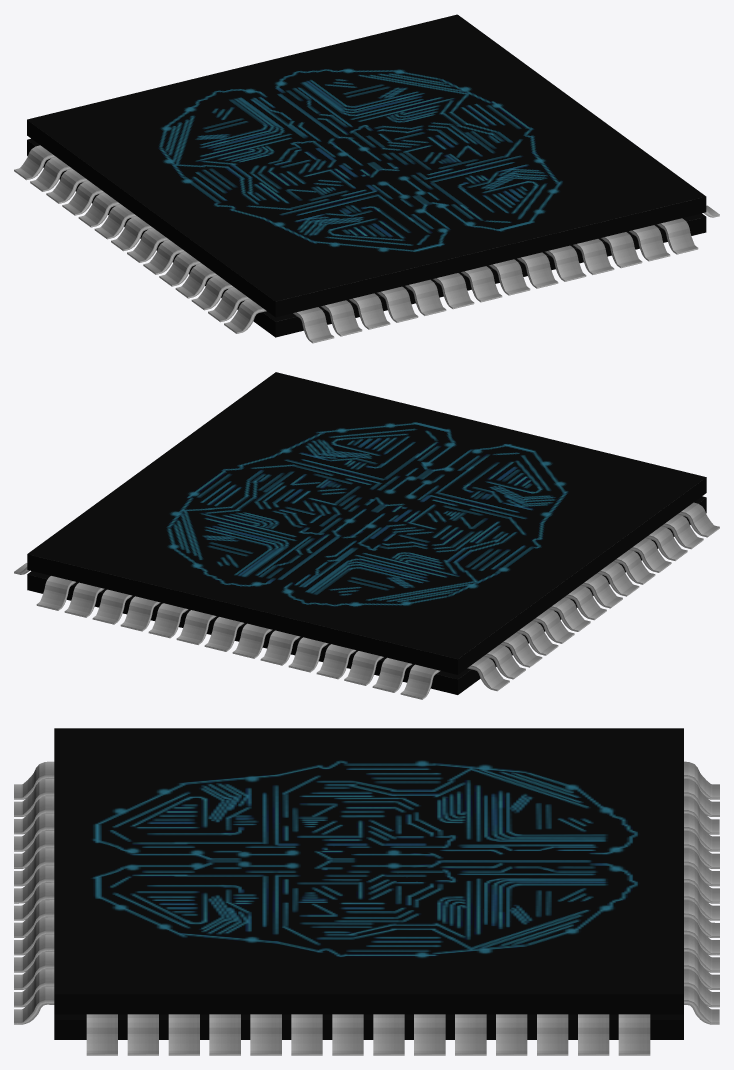
The model's file is AIChip.fbx.
3 views of the same model, one above another, from view 1: azimuth 30°, elevation 25°; view 2: azimuth 150°, elevation 25°; view 3: azimuth 270°, elevation 25° (orthographic). The views are drawn at different scales.
Visible parts, largest first — view 1: Pin9; view 2: Pin9; view 3: Pin9.
Boxes of the visible parts, left/top/right/bottom form: Pin9: left=14, top=14, right=719, bottom=343; Pin9: left=14, top=372, right=719, bottom=699; Pin9: left=14, top=728, right=719, bottom=1055.
Size of the model in its own units: 224 by 15.95 by 224.
2 materials, 2 textured.
